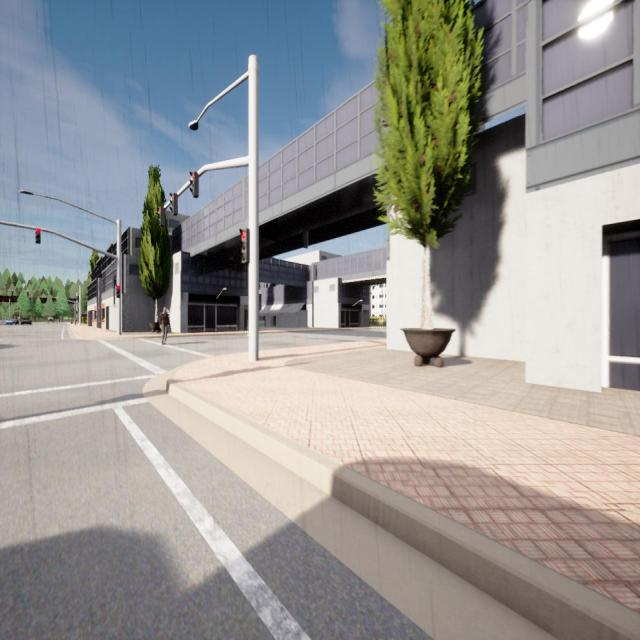Pedestrian: (158, 306, 170, 346)
Vehicle: (21, 317, 32, 325), (11, 317, 19, 325), (5, 319, 12, 326), (48, 317, 54, 323)
traffic_light: (239, 228, 250, 264), (189, 172, 199, 198), (169, 192, 178, 215), (157, 206, 165, 227), (36, 228, 40, 244), (116, 285, 120, 298), (27, 291, 29, 297), (42, 297, 44, 301), (54, 298, 56, 302), (77, 296, 79, 300), (12, 291, 13, 297), (30, 297, 31, 301)
